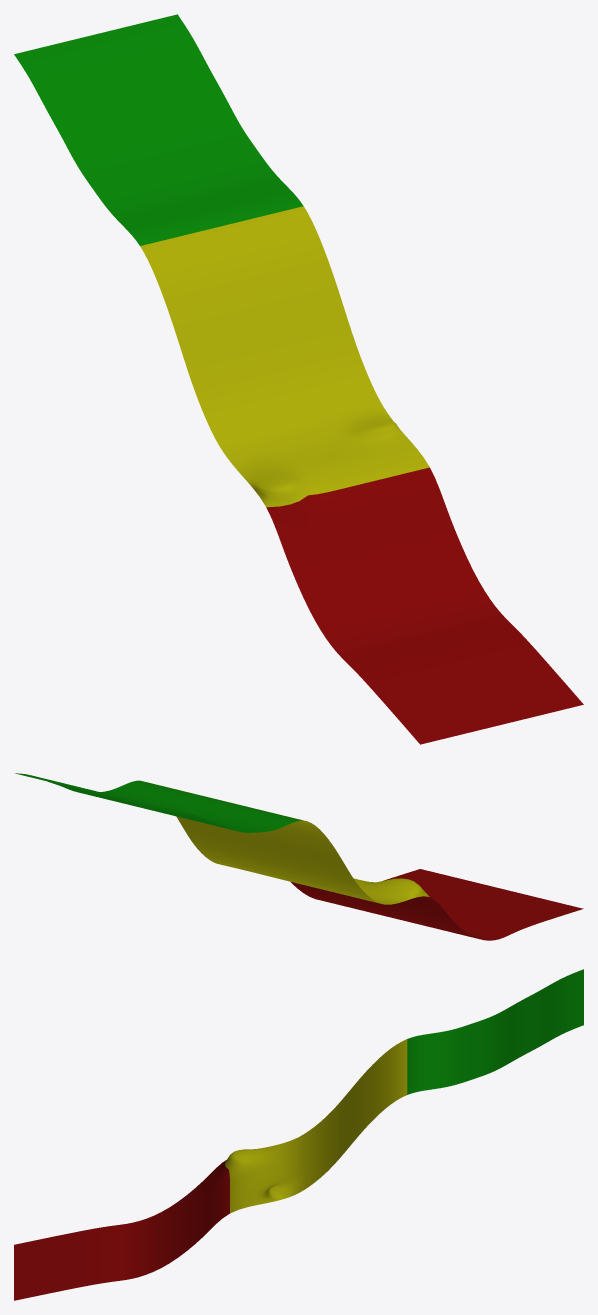
The model's file is slope_3.fbx.
3 views of the same model, one above another, from view 1: azimuth 30°, elevation 25°; view 2: azimuth 150°, elevation 25°; view 3: azimuth 270°, elevation 25° (orthographic). The views are drawn at different scales.
Parts seen in each view (by area): view 1: slope; view 2: slope; view 3: slope.
Boxes of the visible parts, x1,y1,x2,y2 form: slope: [14, 14, 583, 744]; slope: [15, 773, 583, 940]; slope: [14, 969, 583, 1300].
Size of the model in its own units: 1000 by 2294 by 4298.
